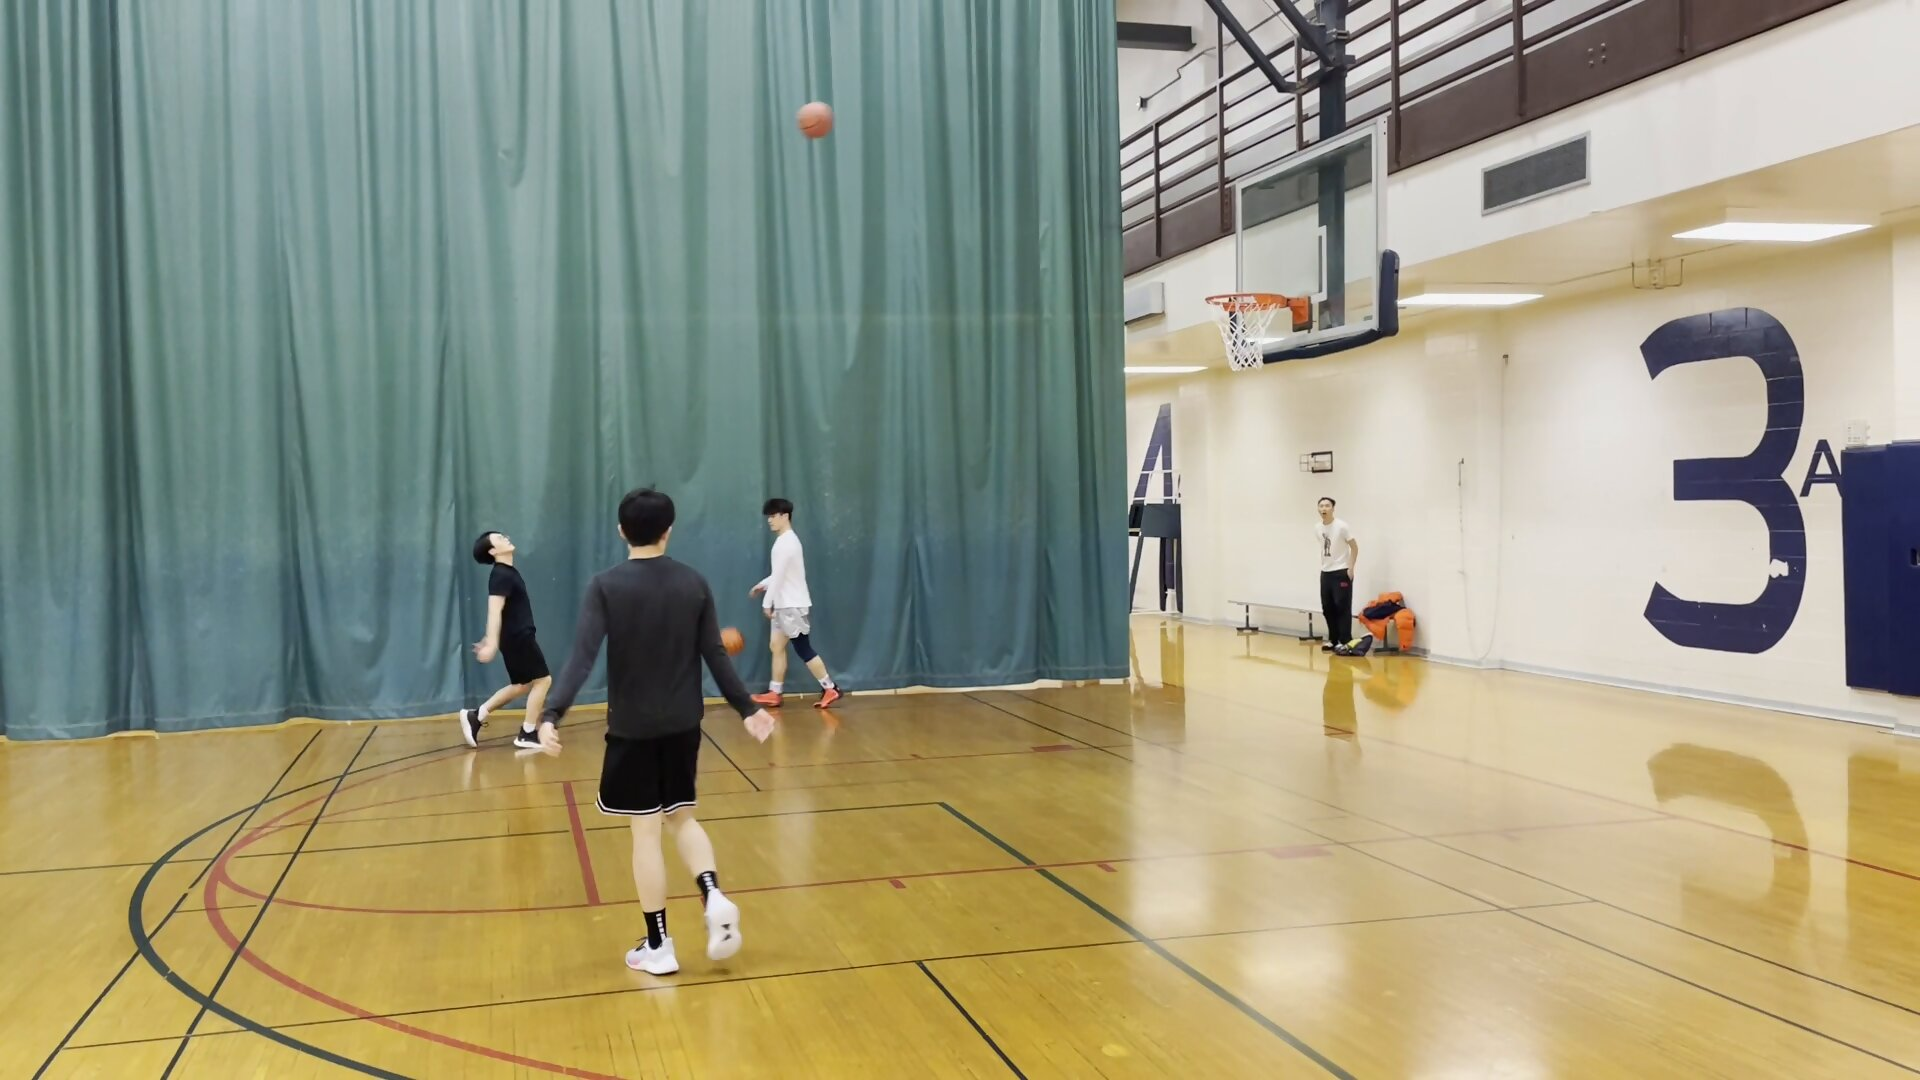ball: (792, 97, 838, 143), (715, 626, 746, 659)
net: (1216, 340, 1278, 378)
player: (549, 487, 770, 984), (457, 525, 557, 753), (753, 496, 848, 716), (1308, 491, 1365, 660)
rim: (1201, 287, 1293, 316)
